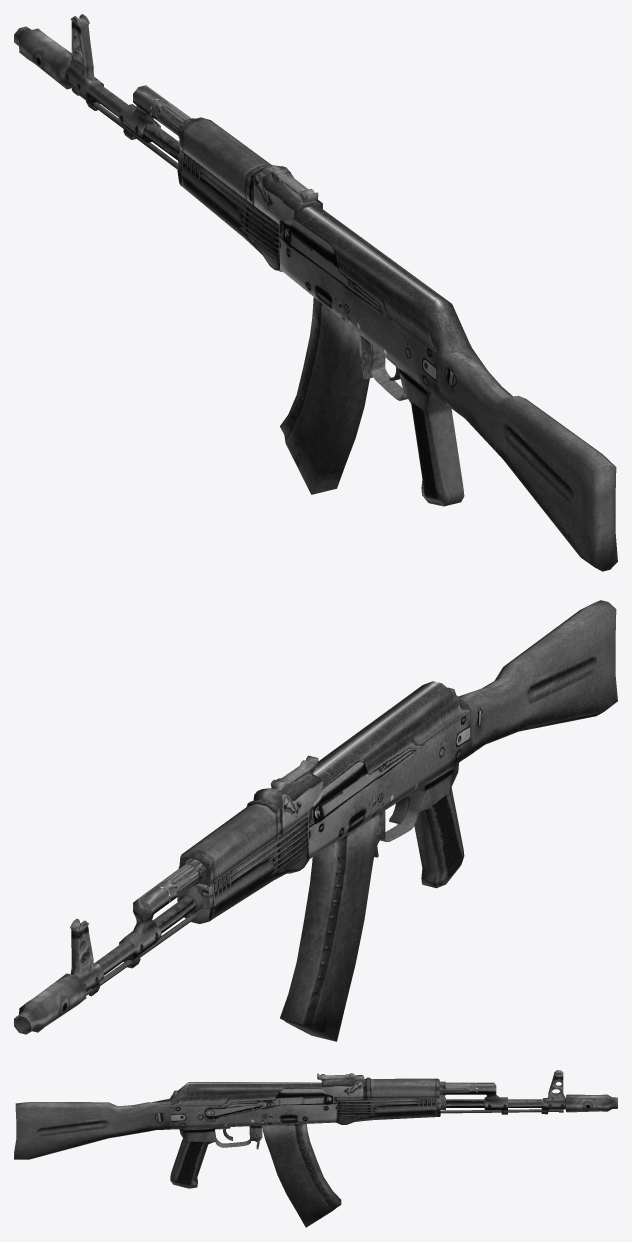
3 views of the same model, one above another, from view 1: azimuth 30°, elevation 25°; view 2: azimuth 150°, elevation 25°; view 3: azimuth 270°, elevation 25° (orthographic). The views are drawn at different scales.
Visible parts, largest first — view 1: ShoulderHold AK_74, AK_74 Magaz, AK_74 Gun, AK_74 Patron_reloader, AK_74 Arm, AK_74 Holder; view 2: ShoulderHold AK_74, AK_74 Magaz, AK_74 Gun, AK_74 Patron_reloader, AK_74 Arm, AK_74 Holder; view 3: ShoulderHold AK_74, AK_74 Magaz, AK_74 Gun, AK_74 Patron_reloader, AK_74 Arm, AK_74 Holder.
Part boxes in pixels (x1,y1,x2,y2): ShoulderHold AK_74: (279,206,617,571); AK_74 Magaz: (280,297,369,494); AK_74 Gun: (14,14,194,168); AK_74 Patron_reloader: (179,117,322,224); AK_74 Arm: (359,335,464,506); AK_74 Holder: (177,150,282,271); ShoulderHold AK_74: (308,600,617,859); AK_74 Magaz: (280,814,379,1041); AK_74 Gun: (14,858,205,1034); AK_74 Patron_reloader: (179,755,322,885); AK_74 Arm: (374,762,464,888); AK_74 Holder: (177,815,309,923); ShoulderHold AK_74: (14,1082,336,1159); AK_74 Magaz: (261,1124,341,1227); AK_74 Gun: (439,1070,617,1114); AK_74 Patron_reloader: (317,1073,439,1099); AK_74 Arm: (170,1125,262,1188); AK_74 Holder: (336,1095,440,1124).
Size of the model in its own units: 3.14 by 26.27 by 93.81.
Materials: 1 (1 with a texture image).
